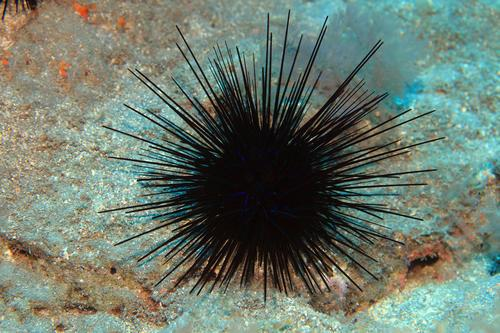urchin: (101, 6, 448, 304)
